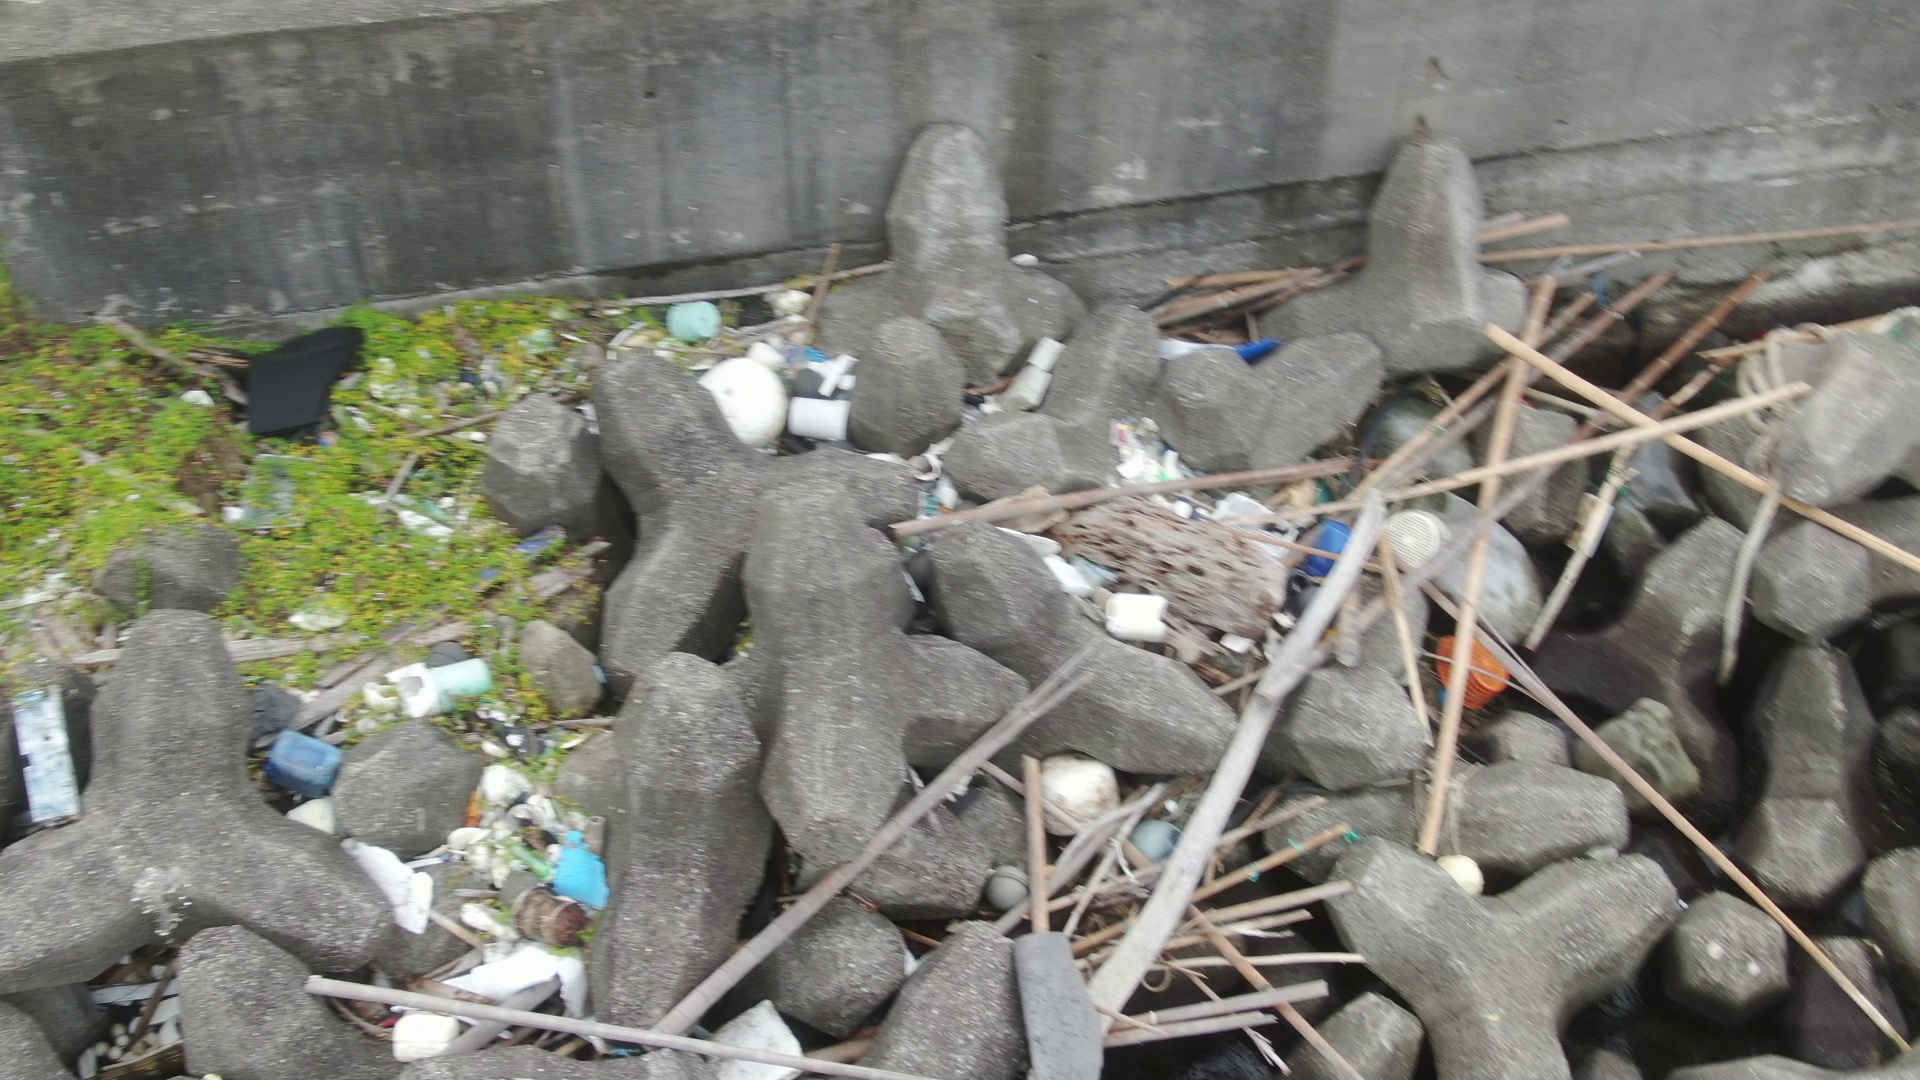garbage: (257, 644, 621, 945), (1091, 396, 1453, 670), (651, 285, 873, 467), (982, 736, 1205, 905), (899, 456, 1096, 642), (343, 952, 644, 1052), (69, 945, 220, 1080), (241, 328, 386, 435), (9, 684, 88, 831), (703, 975, 814, 1077), (1002, 316, 1068, 427), (1412, 824, 1498, 909), (1447, 622, 1516, 713), (1212, 327, 1284, 372)
